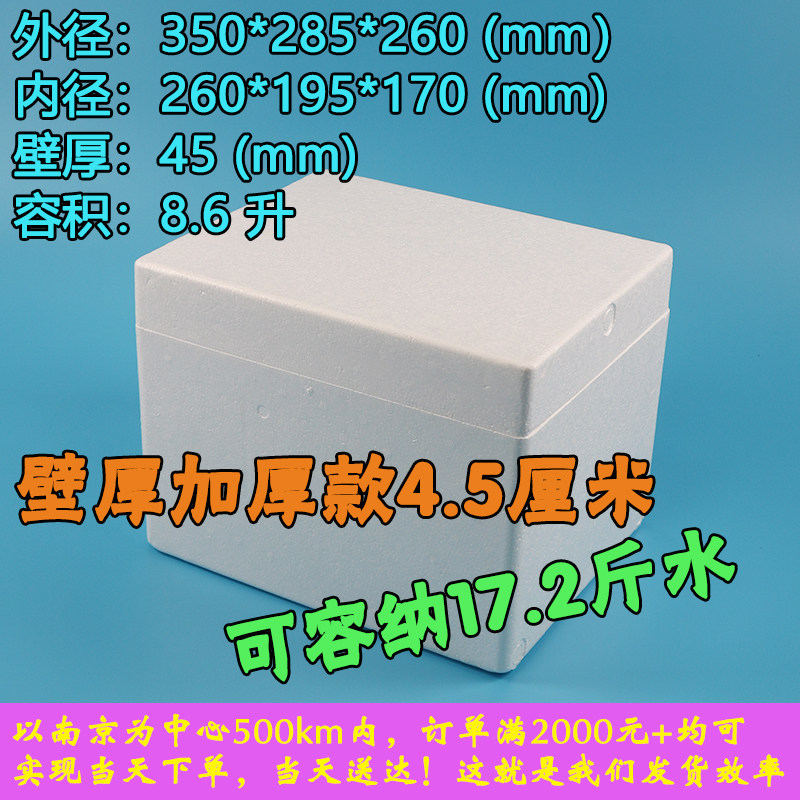Boxes: (134, 179, 669, 672)
